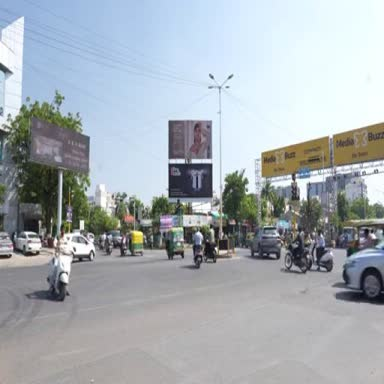Car: (344, 242, 383, 299), (250, 226, 281, 259), (65, 234, 95, 262), (15, 232, 41, 254), (0, 232, 14, 258), (110, 231, 122, 247), (84, 233, 94, 243), (87, 233, 94, 243)
